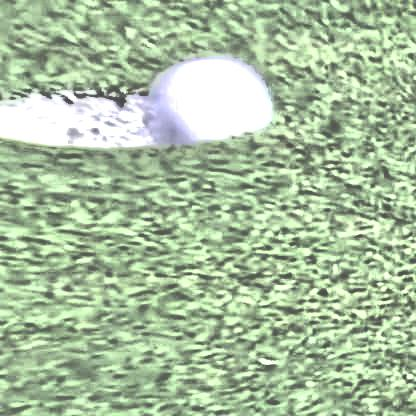golfball: (144, 70, 270, 161)
